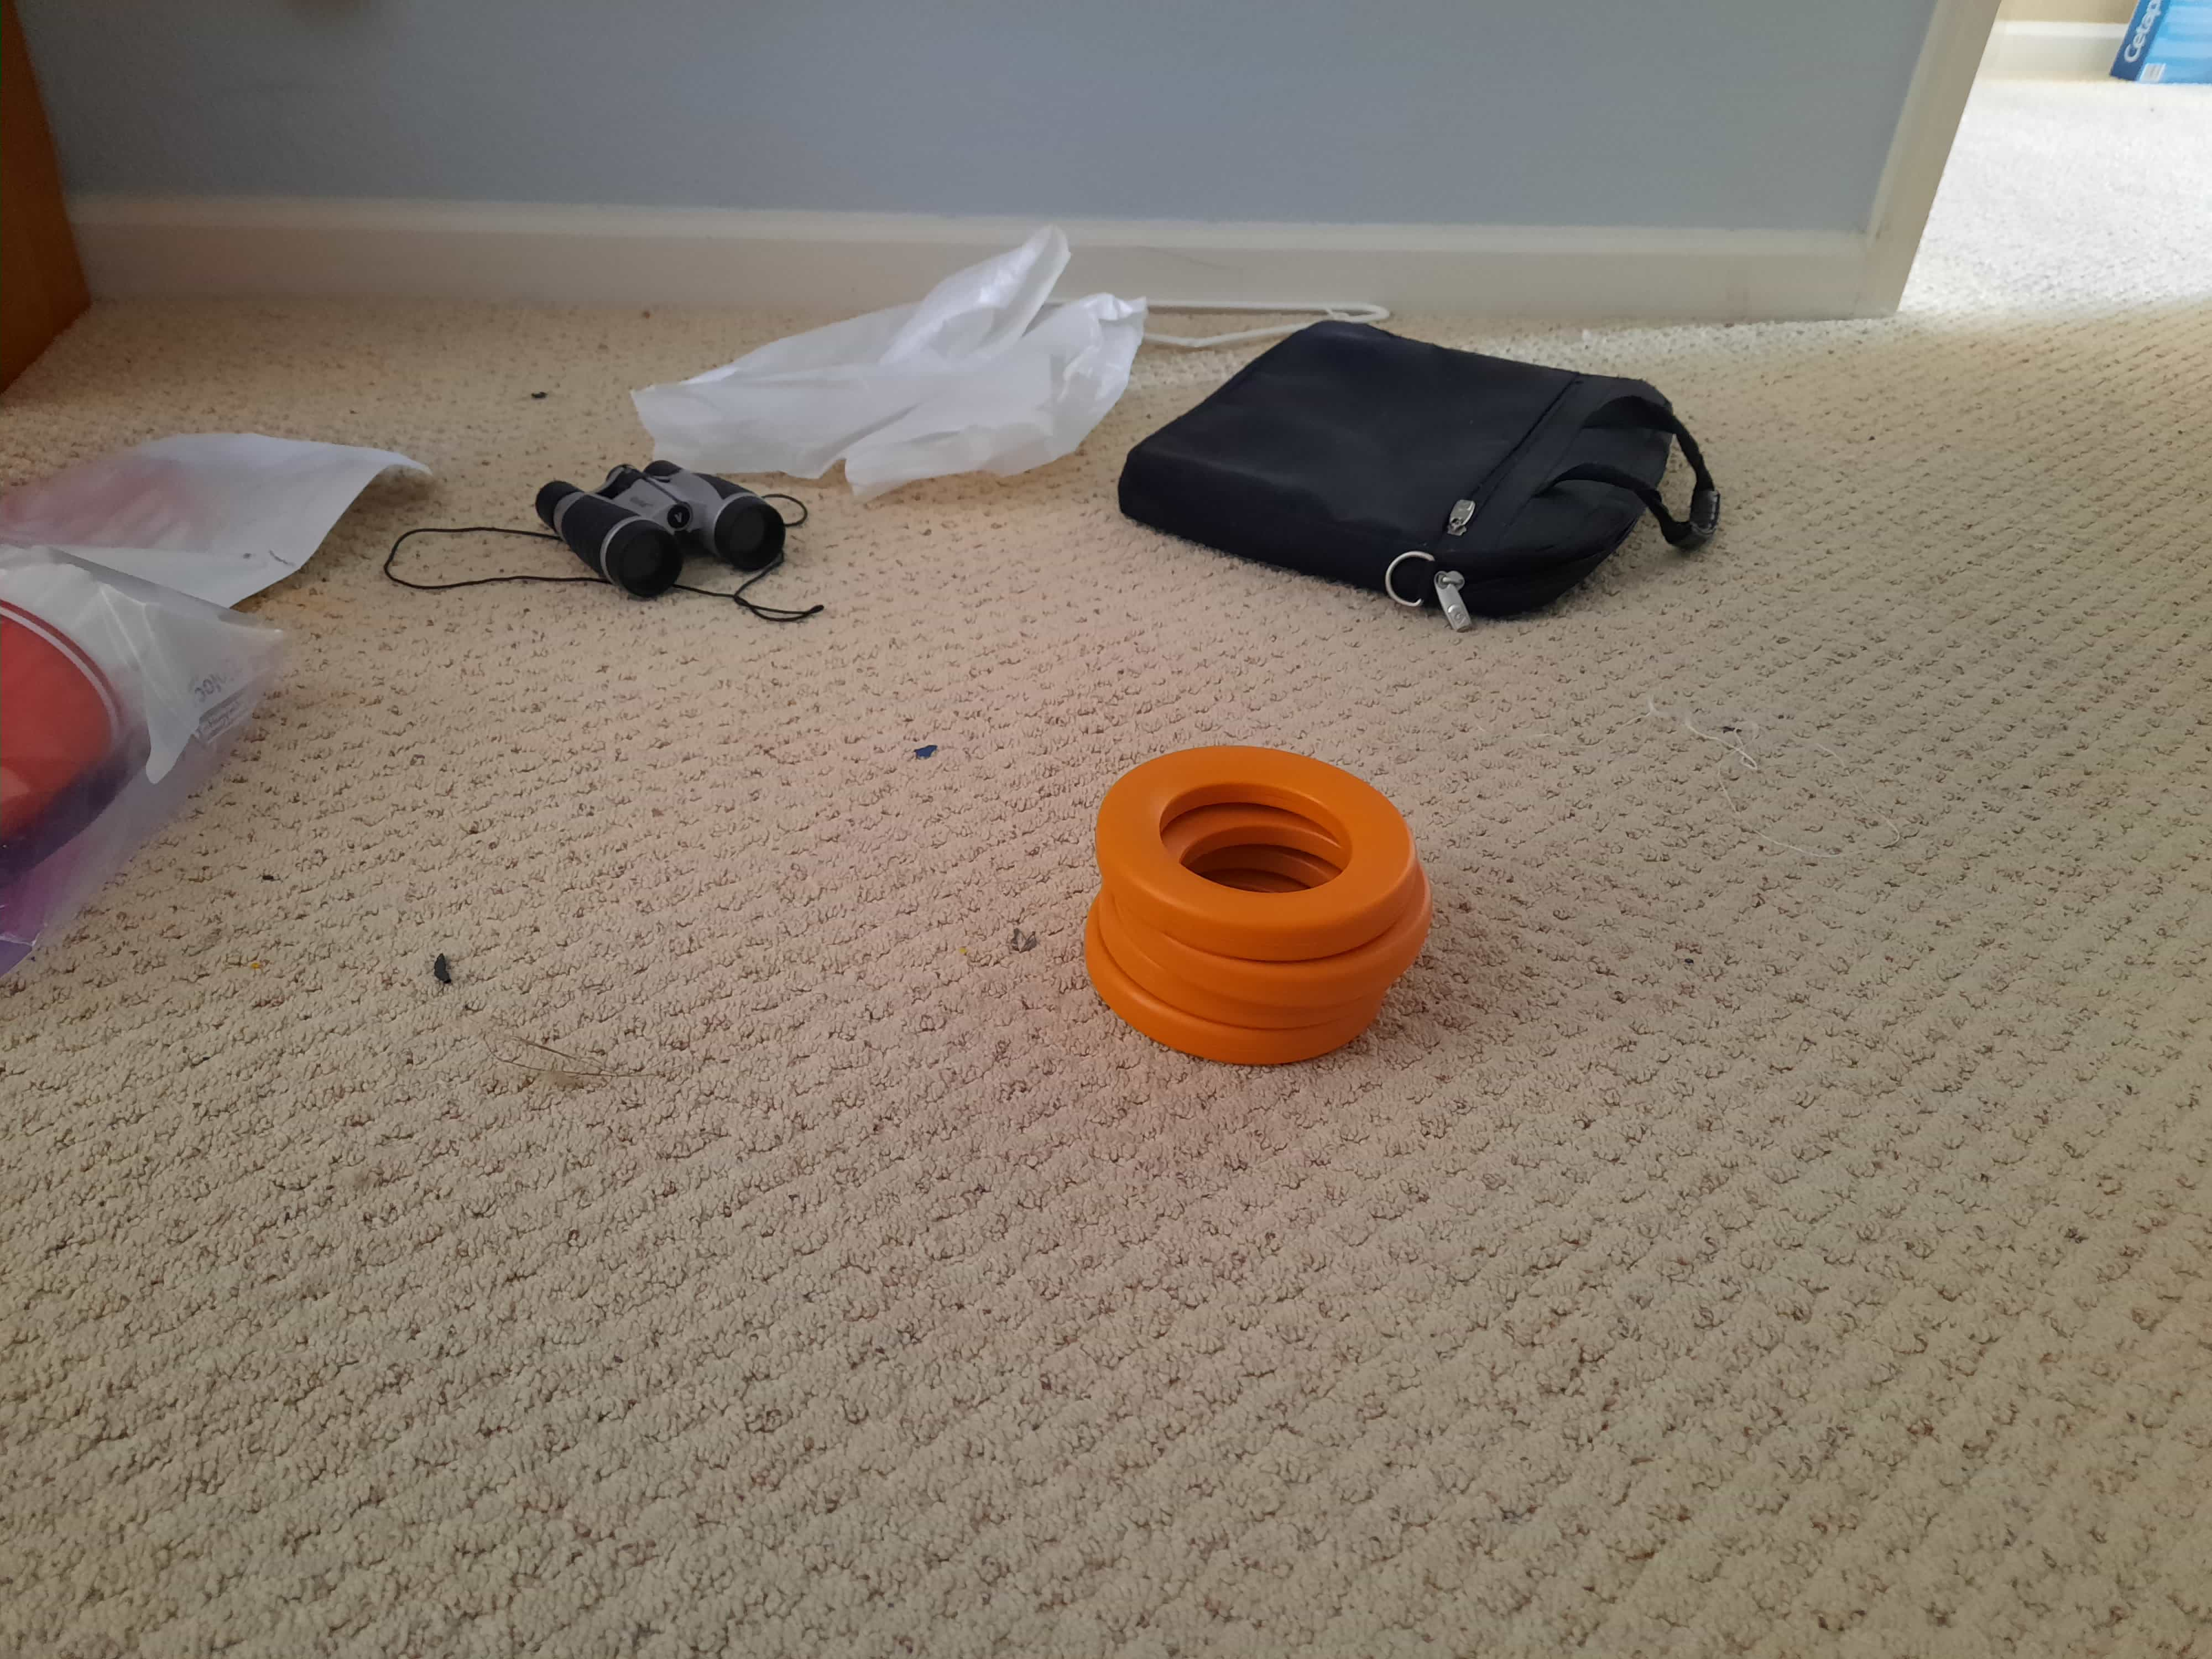FourStack: (1082, 755, 1420, 1070)
